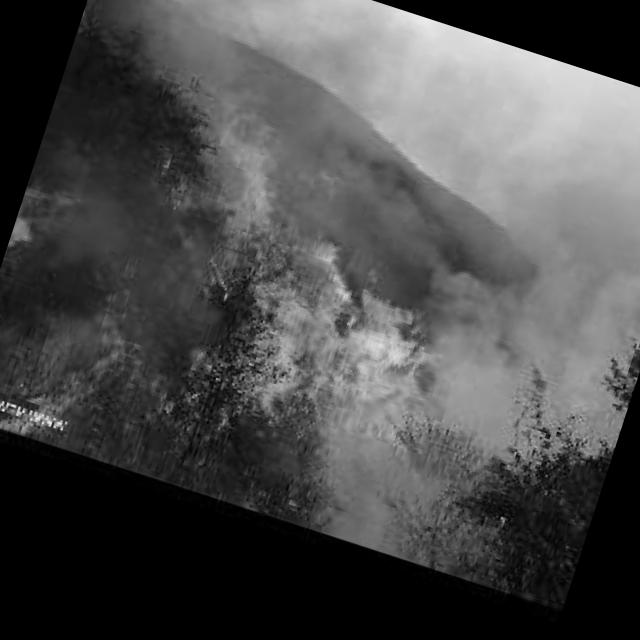fire: (125, 55, 520, 482), (57, 252, 167, 384), (524, 339, 626, 462), (1, 161, 82, 284), (81, 0, 115, 22)
smoke: (402, 72, 640, 453)
